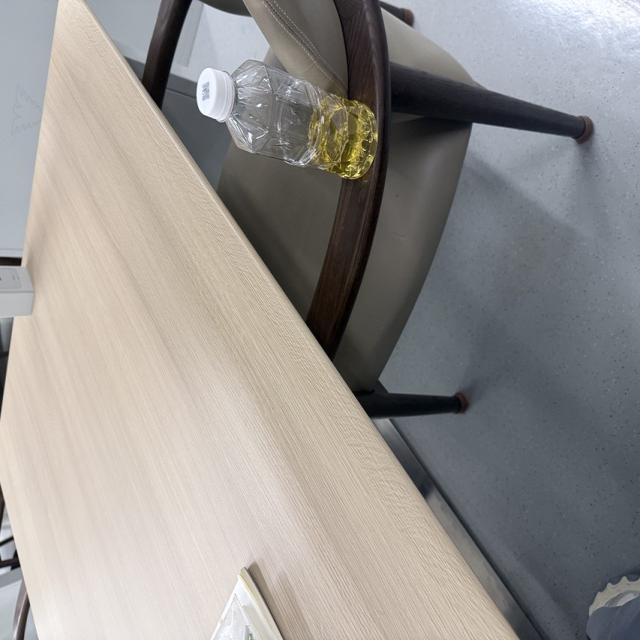low: (197, 60, 377, 179)
